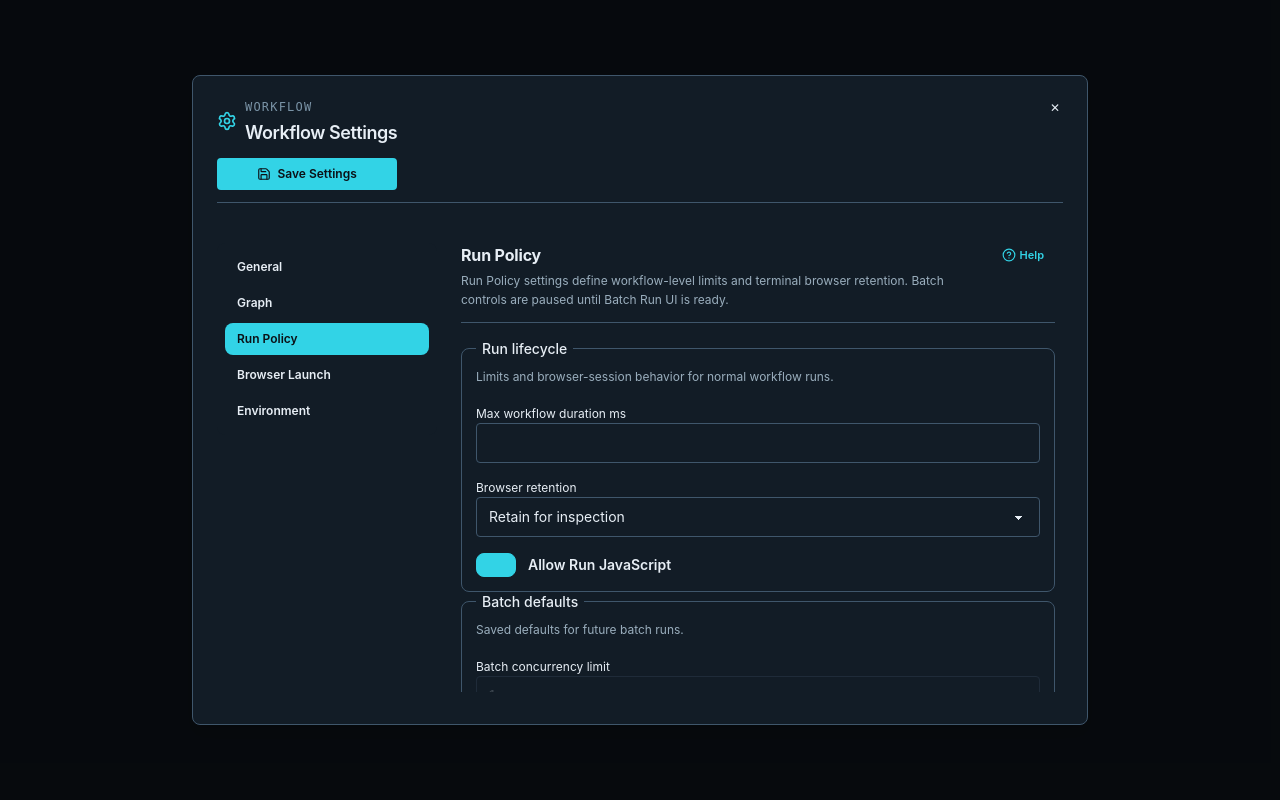
WorkflowSettingsDialog › renders settings help with the scrollable workflow settings help layout
Click the button with aria-label "Run Policy Settings Help" at (1023, 255), box [990,243,1055,267]
(page scrolled)
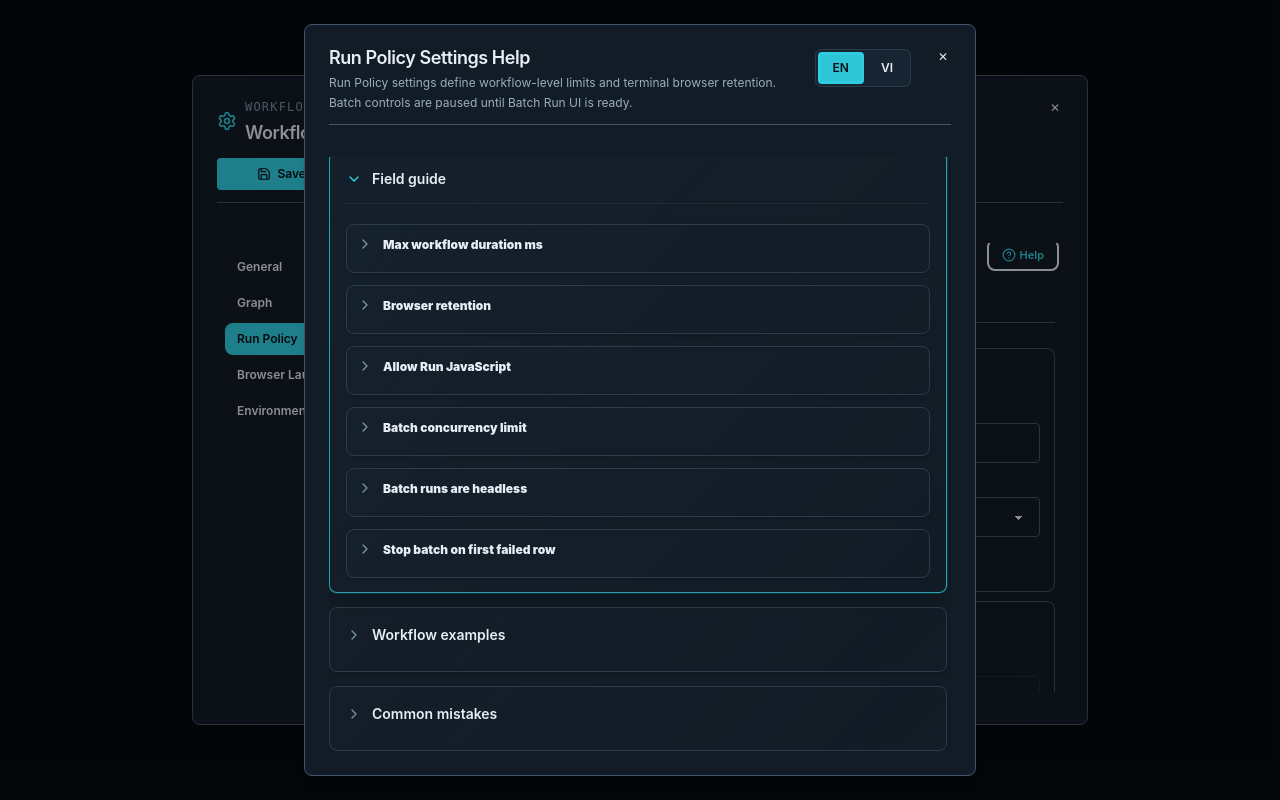
Result: the text "Batch controls are paused until Batch Run UI is ready" is shown at [329,75,776,110]
Result: the text "Common mistakes" is shown at [329,686,947,751]
Click the heading "Common mistakes" at (422, 714), box [346,705,497,722]
(page scrolled)
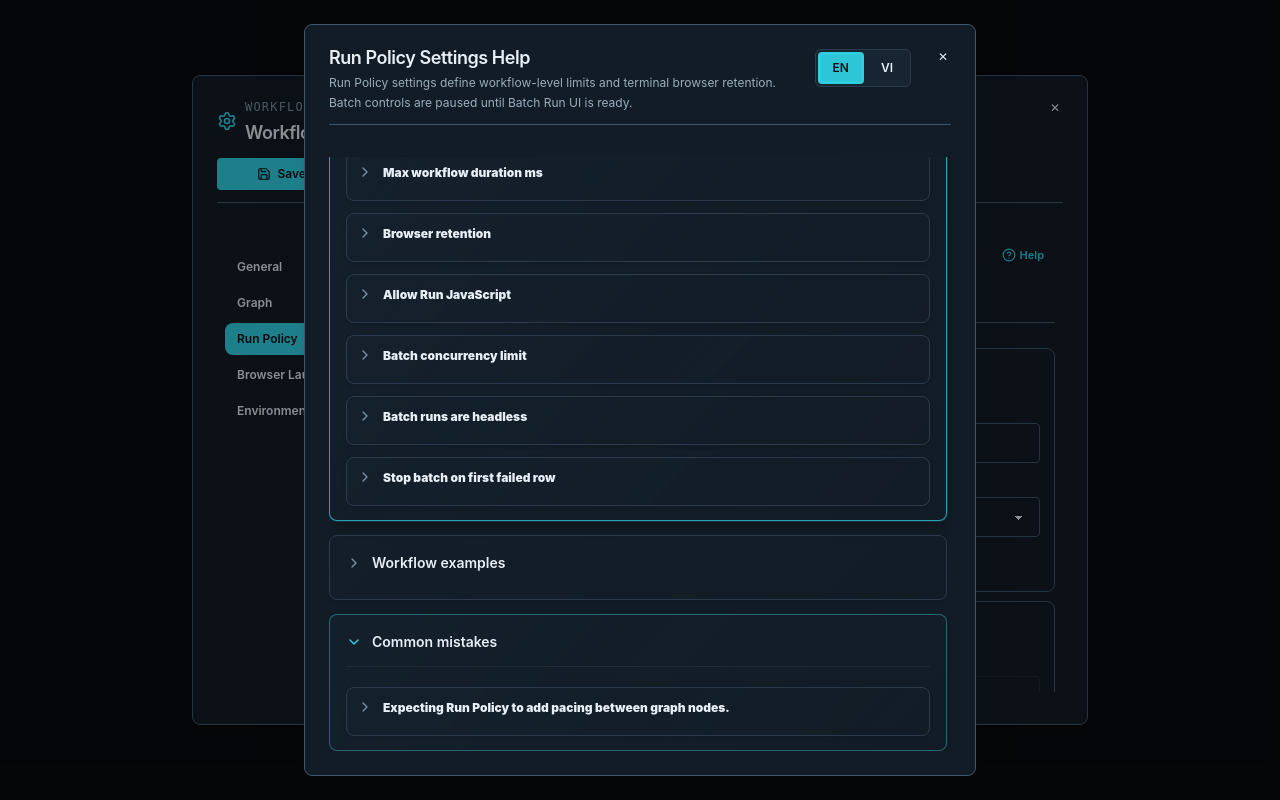
Result: the element with class "workflow-settings-help-item" showing "Max workflow duration ms" is shown at [346,157,930,201]
Result: the text "Expecting Run Policy to add pacing between graph nodes." is shown at [383,700,730,715]
Result: the 7th element with class "workflow-settings-help-item" is shown at [346,687,930,736]
